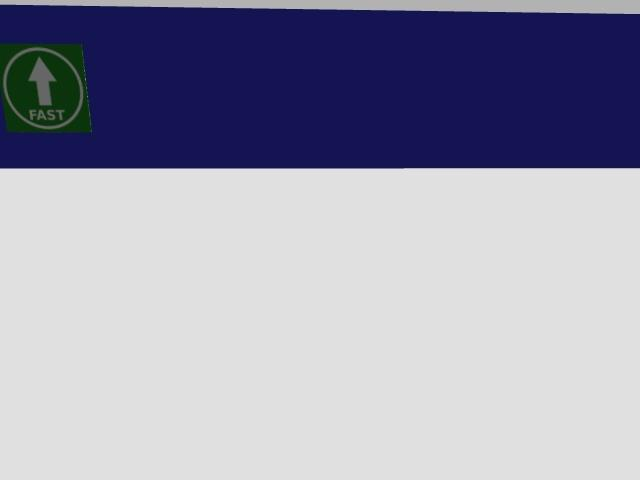fast: (0, 44, 91, 131)
